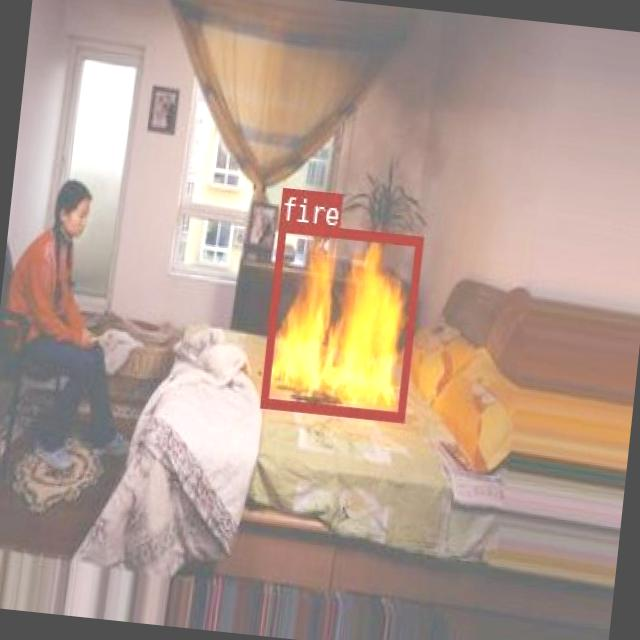fire: (259, 219, 422, 420)
